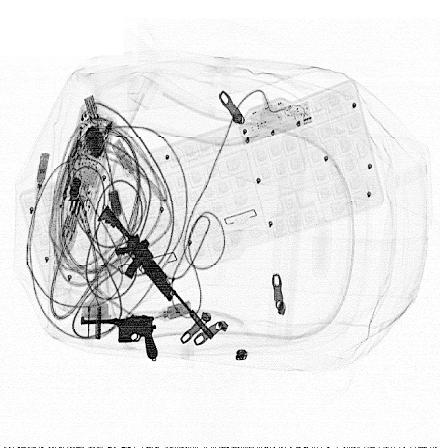Gun: (95, 204, 215, 342), (80, 315, 159, 360)
